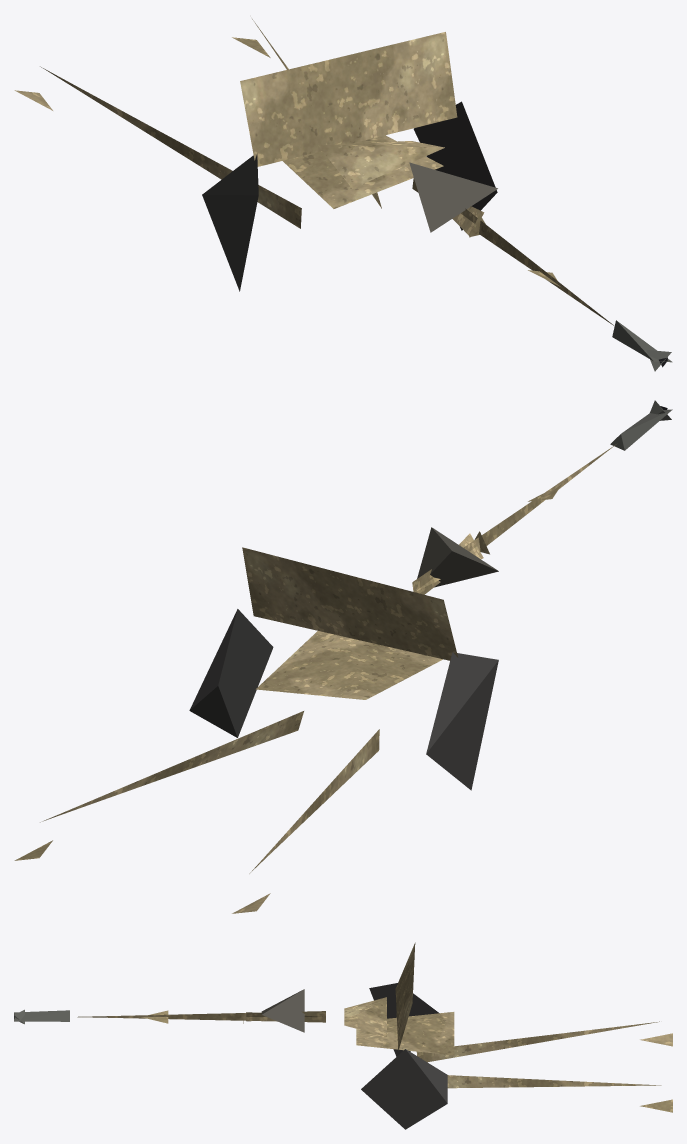
The model's file is art_e4_us_towed_LOD2.glb.
3 renders of one model, top to bottom at view 1: azimuth 30°, elevation 25°; view 2: azimuth 150°, elevation 25°; view 3: azimuth 270°, elevation 25°, orthographic. The views are drawn at different scales.
Parts seen in each view (by area): view 1: art_e4_us_towed_LOD2_body, art_e4_us_towed_LOD2_track, art_e4_us_towed_LOD2_deck, art_e4_us_towed_LOD2_gun; view 2: art_e4_us_towed_LOD2_body, art_e4_us_towed_LOD2_track, art_e4_us_towed_LOD2_deck, art_e4_us_towed_LOD2_gun; view 3: art_e4_us_towed_LOD2_body, art_e4_us_towed_LOD2_track, art_e4_us_towed_LOD2_deck, art_e4_us_towed_LOD2_gun.
Part boxes in pixels (left/top/right/bottom): art_e4_us_towed_LOD2_body: left=14, top=19, right=613, bottom=325; art_e4_us_towed_LOD2_track: left=202, top=101, right=497, bottom=291; art_e4_us_towed_LOD2_deck: left=409, top=162, right=497, bottom=232; art_e4_us_towed_LOD2_gun: left=612, top=320, right=672, bottom=371; art_e4_us_towed_LOD2_body: left=14, top=444, right=616, bottom=913; art_e4_us_towed_LOD2_track: left=189, top=609, right=498, bottom=790; art_e4_us_towed_LOD2_deck: left=417, top=527, right=498, bottom=587; art_e4_us_towed_LOD2_gun: left=610, top=400, right=672, bottom=450; art_e4_us_towed_LOD2_body: left=77, top=942, right=672, bottom=1112; art_e4_us_towed_LOD2_track: left=361, top=983, right=447, bottom=1129; art_e4_us_towed_LOD2_deck: left=261, top=989, right=304, bottom=1032; art_e4_us_towed_LOD2_gun: left=14, top=1009, right=69, bottom=1024.
Bounding box in the file's own units: 2.92 × 2.24 × 10.78.
Materials: 5 (1 with a texture image).
